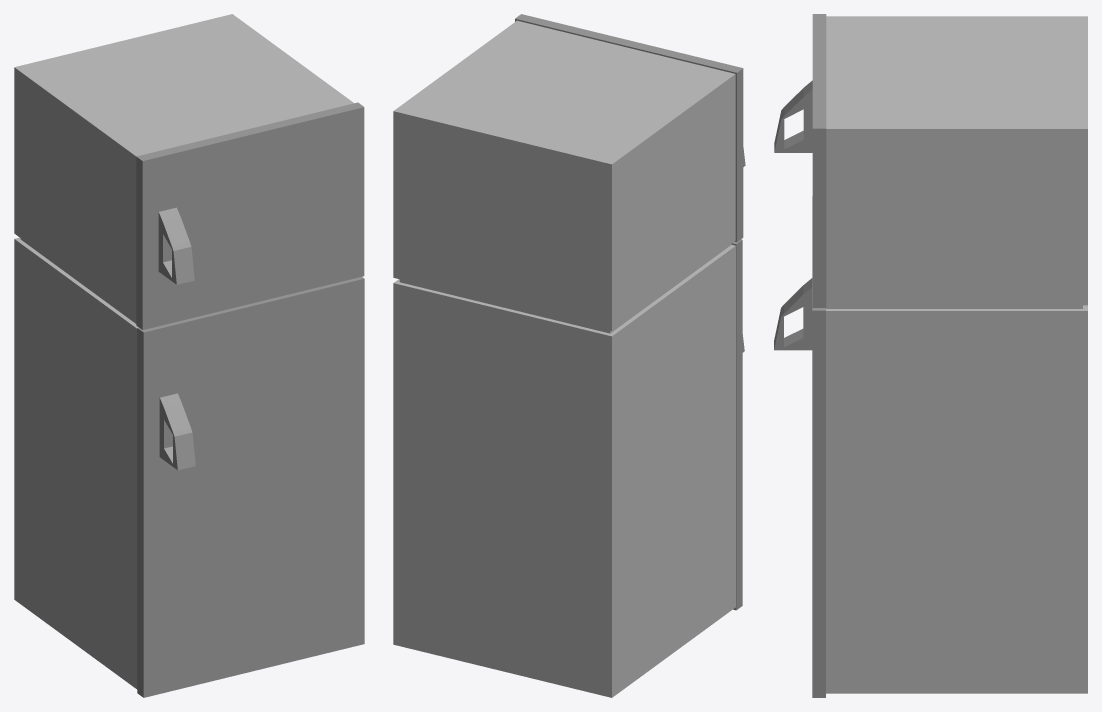
File: Kulkas.fbx
The picture shows the model from 3 angles, left to right: view 1: azimuth 30°, elevation 25°; view 2: azimuth 150°, elevation 25°; view 3: azimuth 270°, elevation 25°; orthographic projection. The views are drawn at different scales.
Visible parts, largest first — view 1: Kulkas, Pintu kulkas bawah, Pintukulkas atas; view 2: Kulkas, Pintukulkas atas, Pintu kulkas bawah; view 3: Kulkas, Pintu kulkas bawah, Pintukulkas atas.
Boxes of the visible parts, bbox=[...] form: Kulkas: bbox=[14, 14, 353, 689]; Pintu kulkas bawah: bbox=[137, 277, 364, 697]; Pintukulkas atas: bbox=[136, 102, 364, 329]; Kulkas: bbox=[393, 20, 735, 697]; Pintukulkas atas: bbox=[515, 14, 745, 241]; Pintu kulkas bawah: bbox=[731, 239, 744, 610]; Kulkas: bbox=[826, 16, 1087, 693]; Pintu kulkas bawah: bbox=[774, 196, 825, 697]; Pintukulkas atas: bbox=[774, 14, 826, 307].
Bounding box in the file's own units: 126 × 293 × 146.
